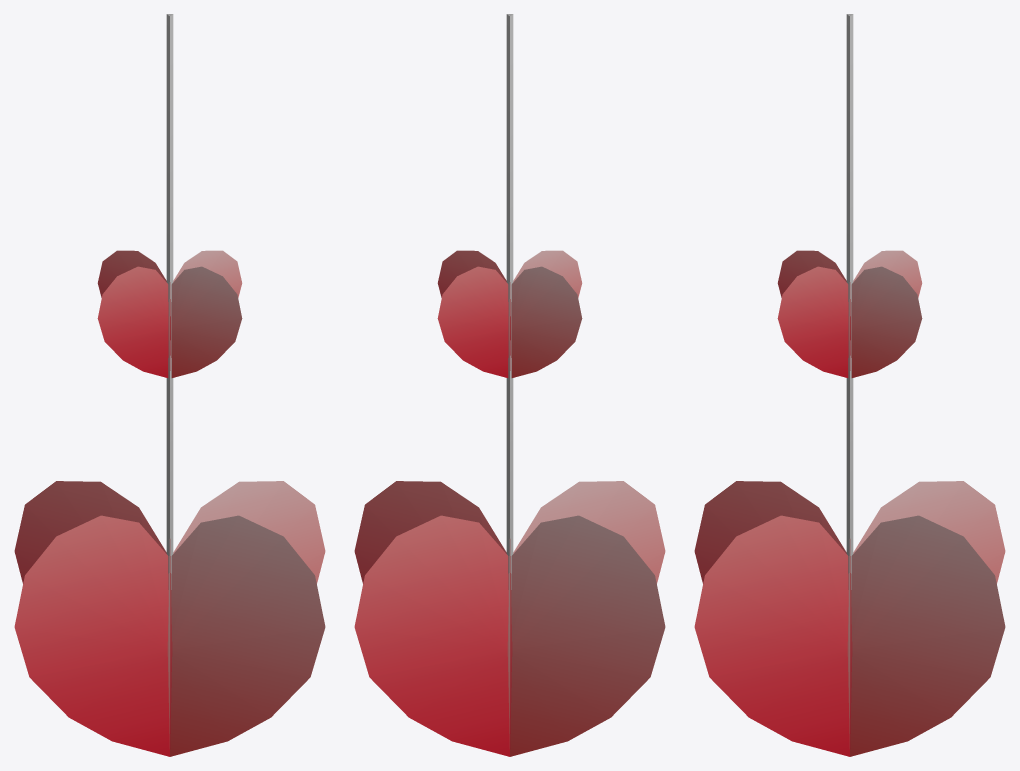
The model's file is CRvalentines_mobile_001.FBX.
3 views of the same model, side by side, from view 1: azimuth 30°, elevation 25°; view 2: azimuth 150°, elevation 25°; view 3: azimuth 270°, elevation 25° (orthographic).
Visible parts, largest first — view 1: valentines_mobile_001; view 2: valentines_mobile_001; view 3: valentines_mobile_001.
Boxes of the visible parts, bbox=[...] form: valentines_mobile_001: bbox=[14, 14, 325, 756]; valentines_mobile_001: bbox=[354, 14, 665, 756]; valentines_mobile_001: bbox=[694, 14, 1005, 756].
Size of the model in its own units: 18.82 by 42.91 by 16.3.
1 material, 1 textured.
